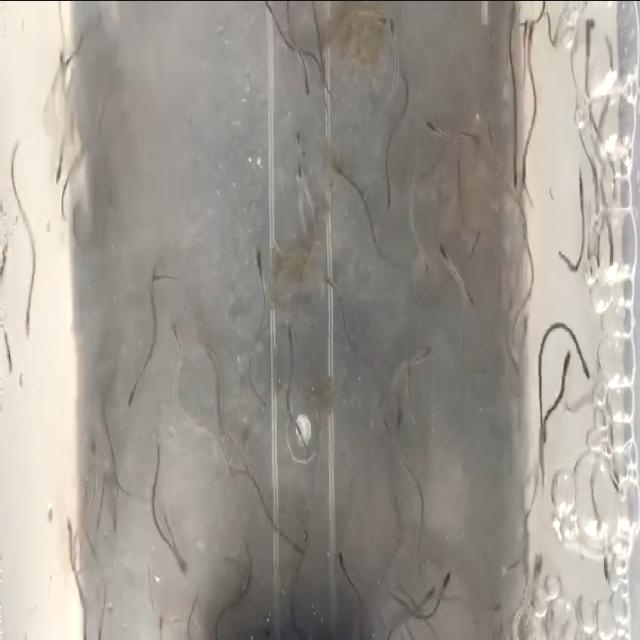active_glass_eel: (253, 250, 270, 298), (282, 307, 299, 354), (168, 546, 188, 582), (148, 257, 166, 297), (122, 378, 138, 422), (598, 529, 610, 587), (290, 154, 306, 196), (294, 121, 306, 175), (508, 146, 522, 192), (557, 344, 573, 384), (320, 142, 342, 170), (419, 582, 438, 612), (522, 18, 536, 58), (570, 158, 584, 198), (20, 300, 34, 338), (418, 240, 432, 278), (56, 46, 68, 90), (605, 240, 617, 284), (335, 540, 348, 580), (471, 226, 488, 256), (54, 148, 68, 184), (386, 8, 398, 50), (2, 336, 12, 384), (372, 4, 390, 30), (300, 64, 310, 109), (168, 326, 182, 358), (424, 112, 440, 140), (322, 268, 337, 296), (64, 510, 76, 544), (382, 408, 394, 442), (464, 126, 482, 148), (578, 350, 590, 383), (420, 336, 435, 361), (440, 572, 452, 602), (395, 406, 404, 444), (384, 177, 394, 210), (436, 252, 454, 270), (519, 18, 529, 48), (88, 438, 98, 463), (112, 506, 122, 530)
